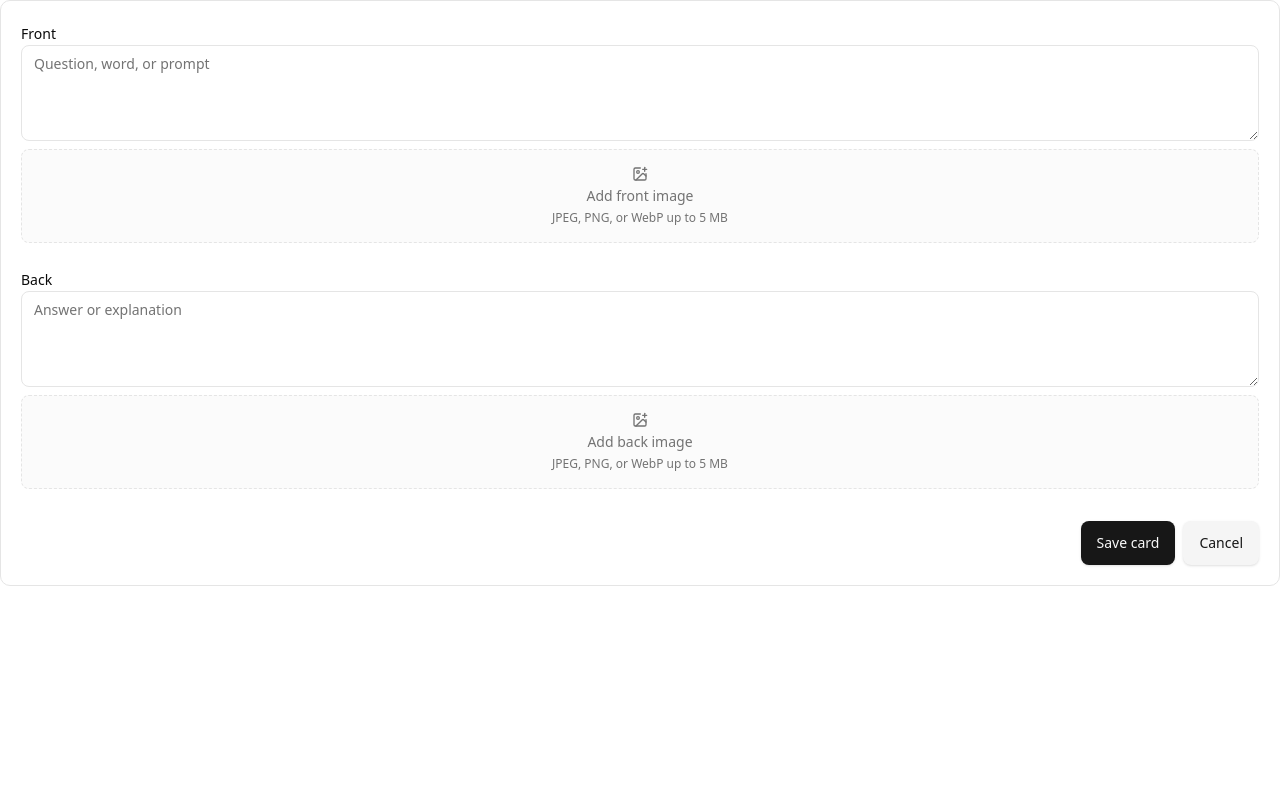
it: CardForm › shows inline validation when a side has no text or image
Type "sdsdsd" into the text box labelled "Front" at [640, 93], box [21,45,1259,141]
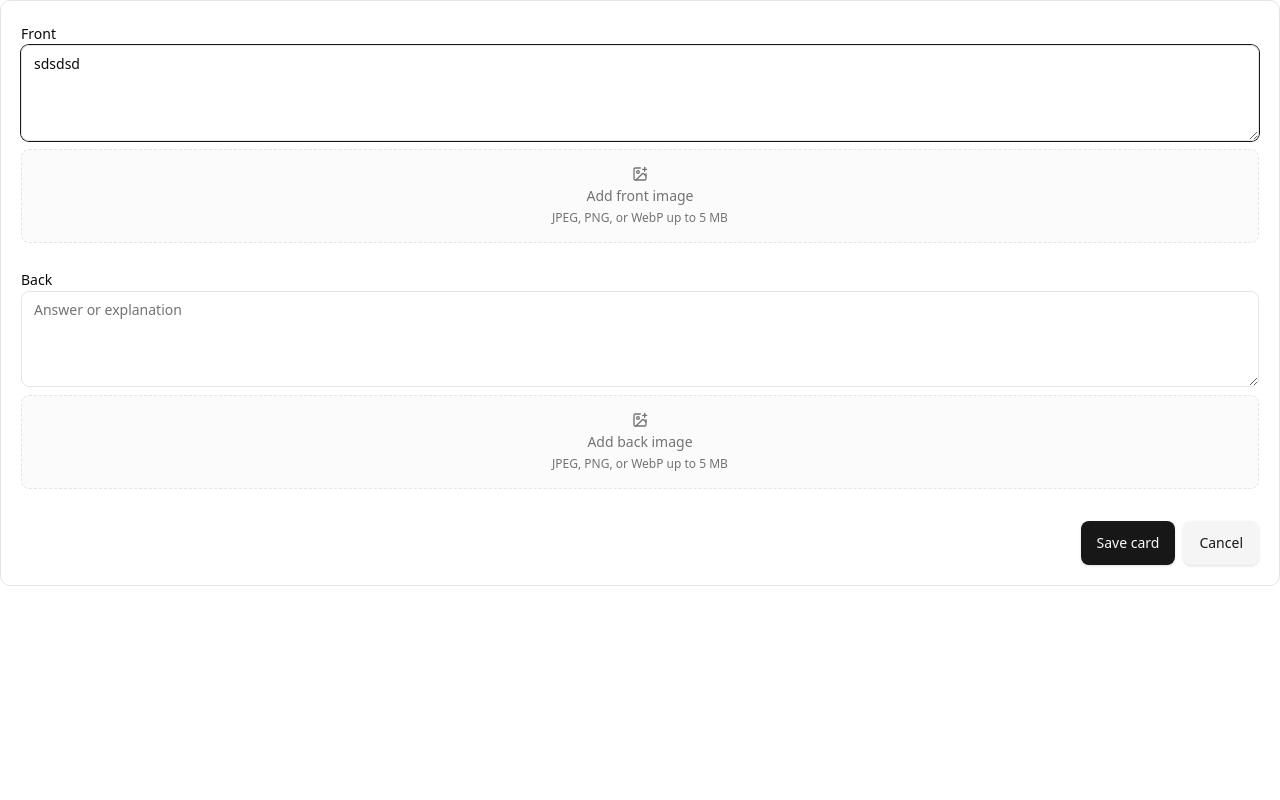
Click the button "Save card" at [1128, 543], box [1080,521,1175,565]
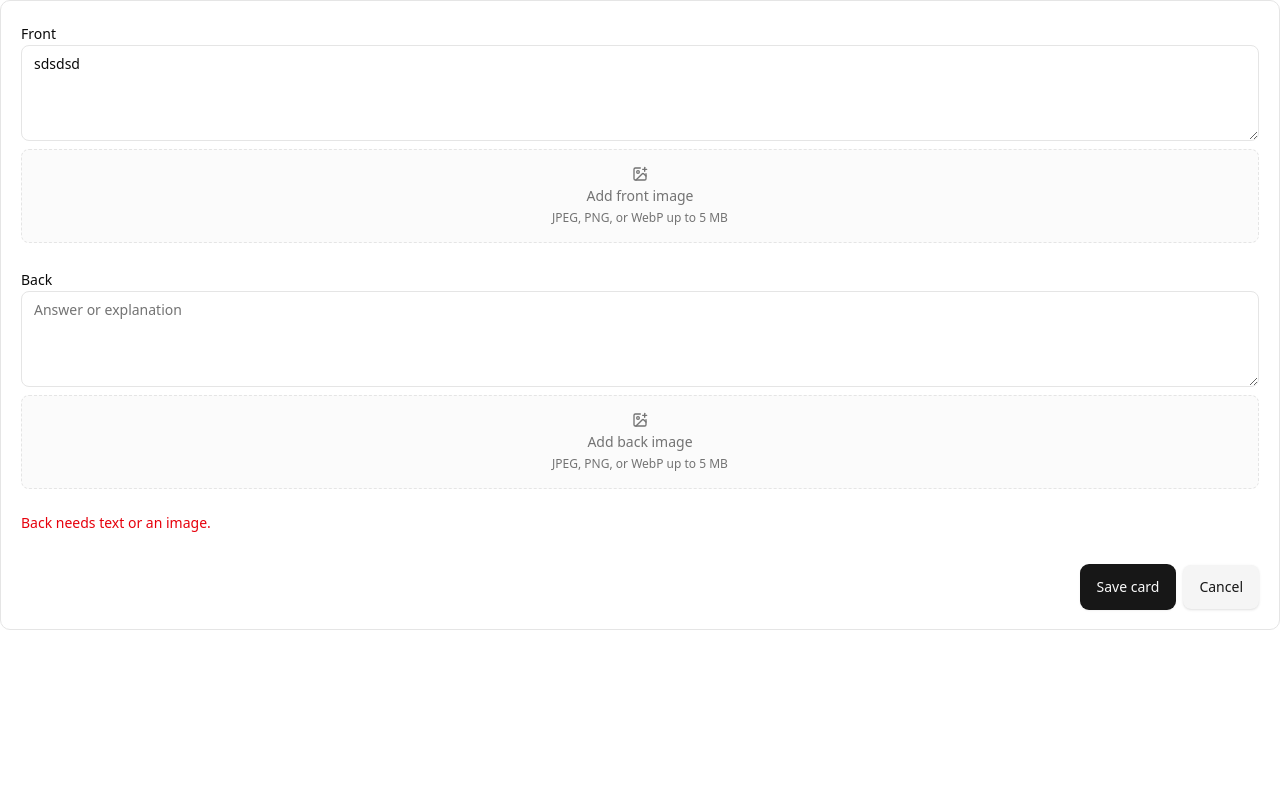
Expected: the text "Back needs text or an image." is shown, [21,513,211,532]
